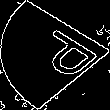P_SE: (12, 25, 98, 85)
